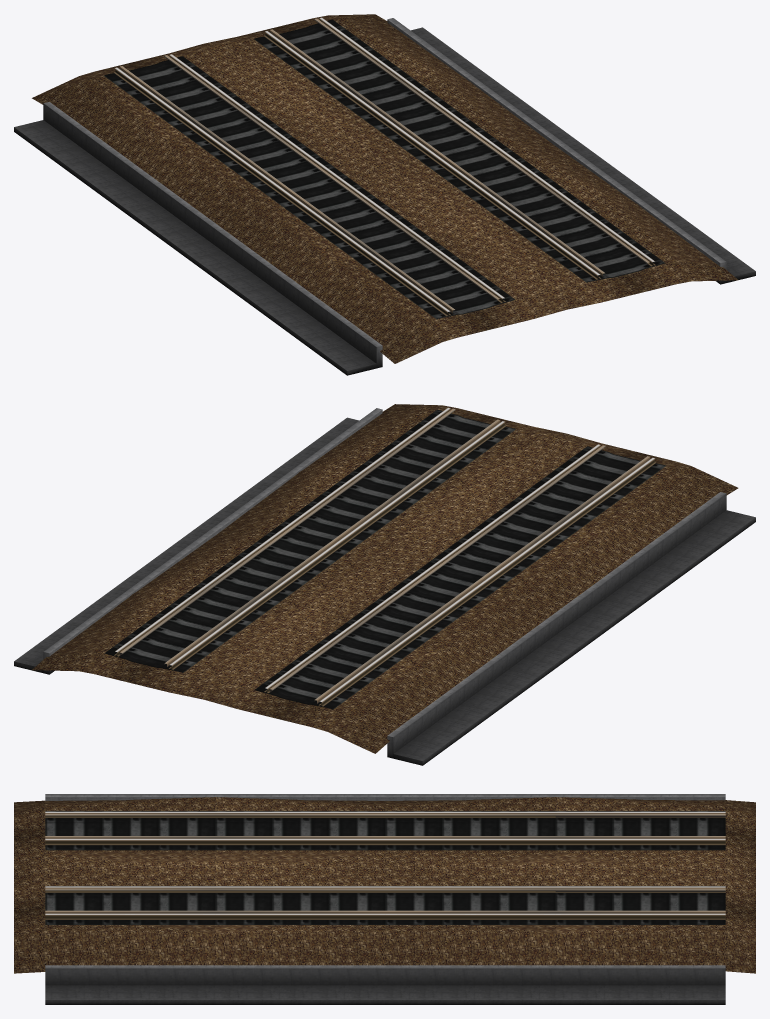
Rendered from HQ_2RAIL_50.glb.
3 renders of one model, top to bottom at view 1: azimuth 30°, elevation 25°; view 2: azimuth 150°, elevation 25°; view 3: azimuth 270°, elevation 25°, orthographic. The views are drawn at different scales.
Visible parts, largest first — view 1: Jari_All1, R000_RG_R1, R000_RG_L1; view 2: Jari_All1, R000_RG_R1, R000_RG_L1; view 3: Jari_All1, R000_RG_L1, R000_RG_R1.
Boxes of the visible parts, x1,y1,x2,y2 form: Jari_All1: (14, 14, 755, 375); R000_RG_R1: (119, 29, 604, 313); R000_RG_L1: (164, 18, 649, 300); Jari_All1: (14, 404, 755, 765); R000_RG_R1: (164, 419, 650, 703); R000_RG_L1: (119, 408, 605, 691); Jari_All1: (14, 794, 755, 1004); R000_RG_L1: (45, 836, 725, 913); R000_RG_R1: (45, 813, 725, 891).
Bounding box in the file's own units: 35.42 × 3.35 × 54.53.
Materials: 7 (6 with a texture image).
